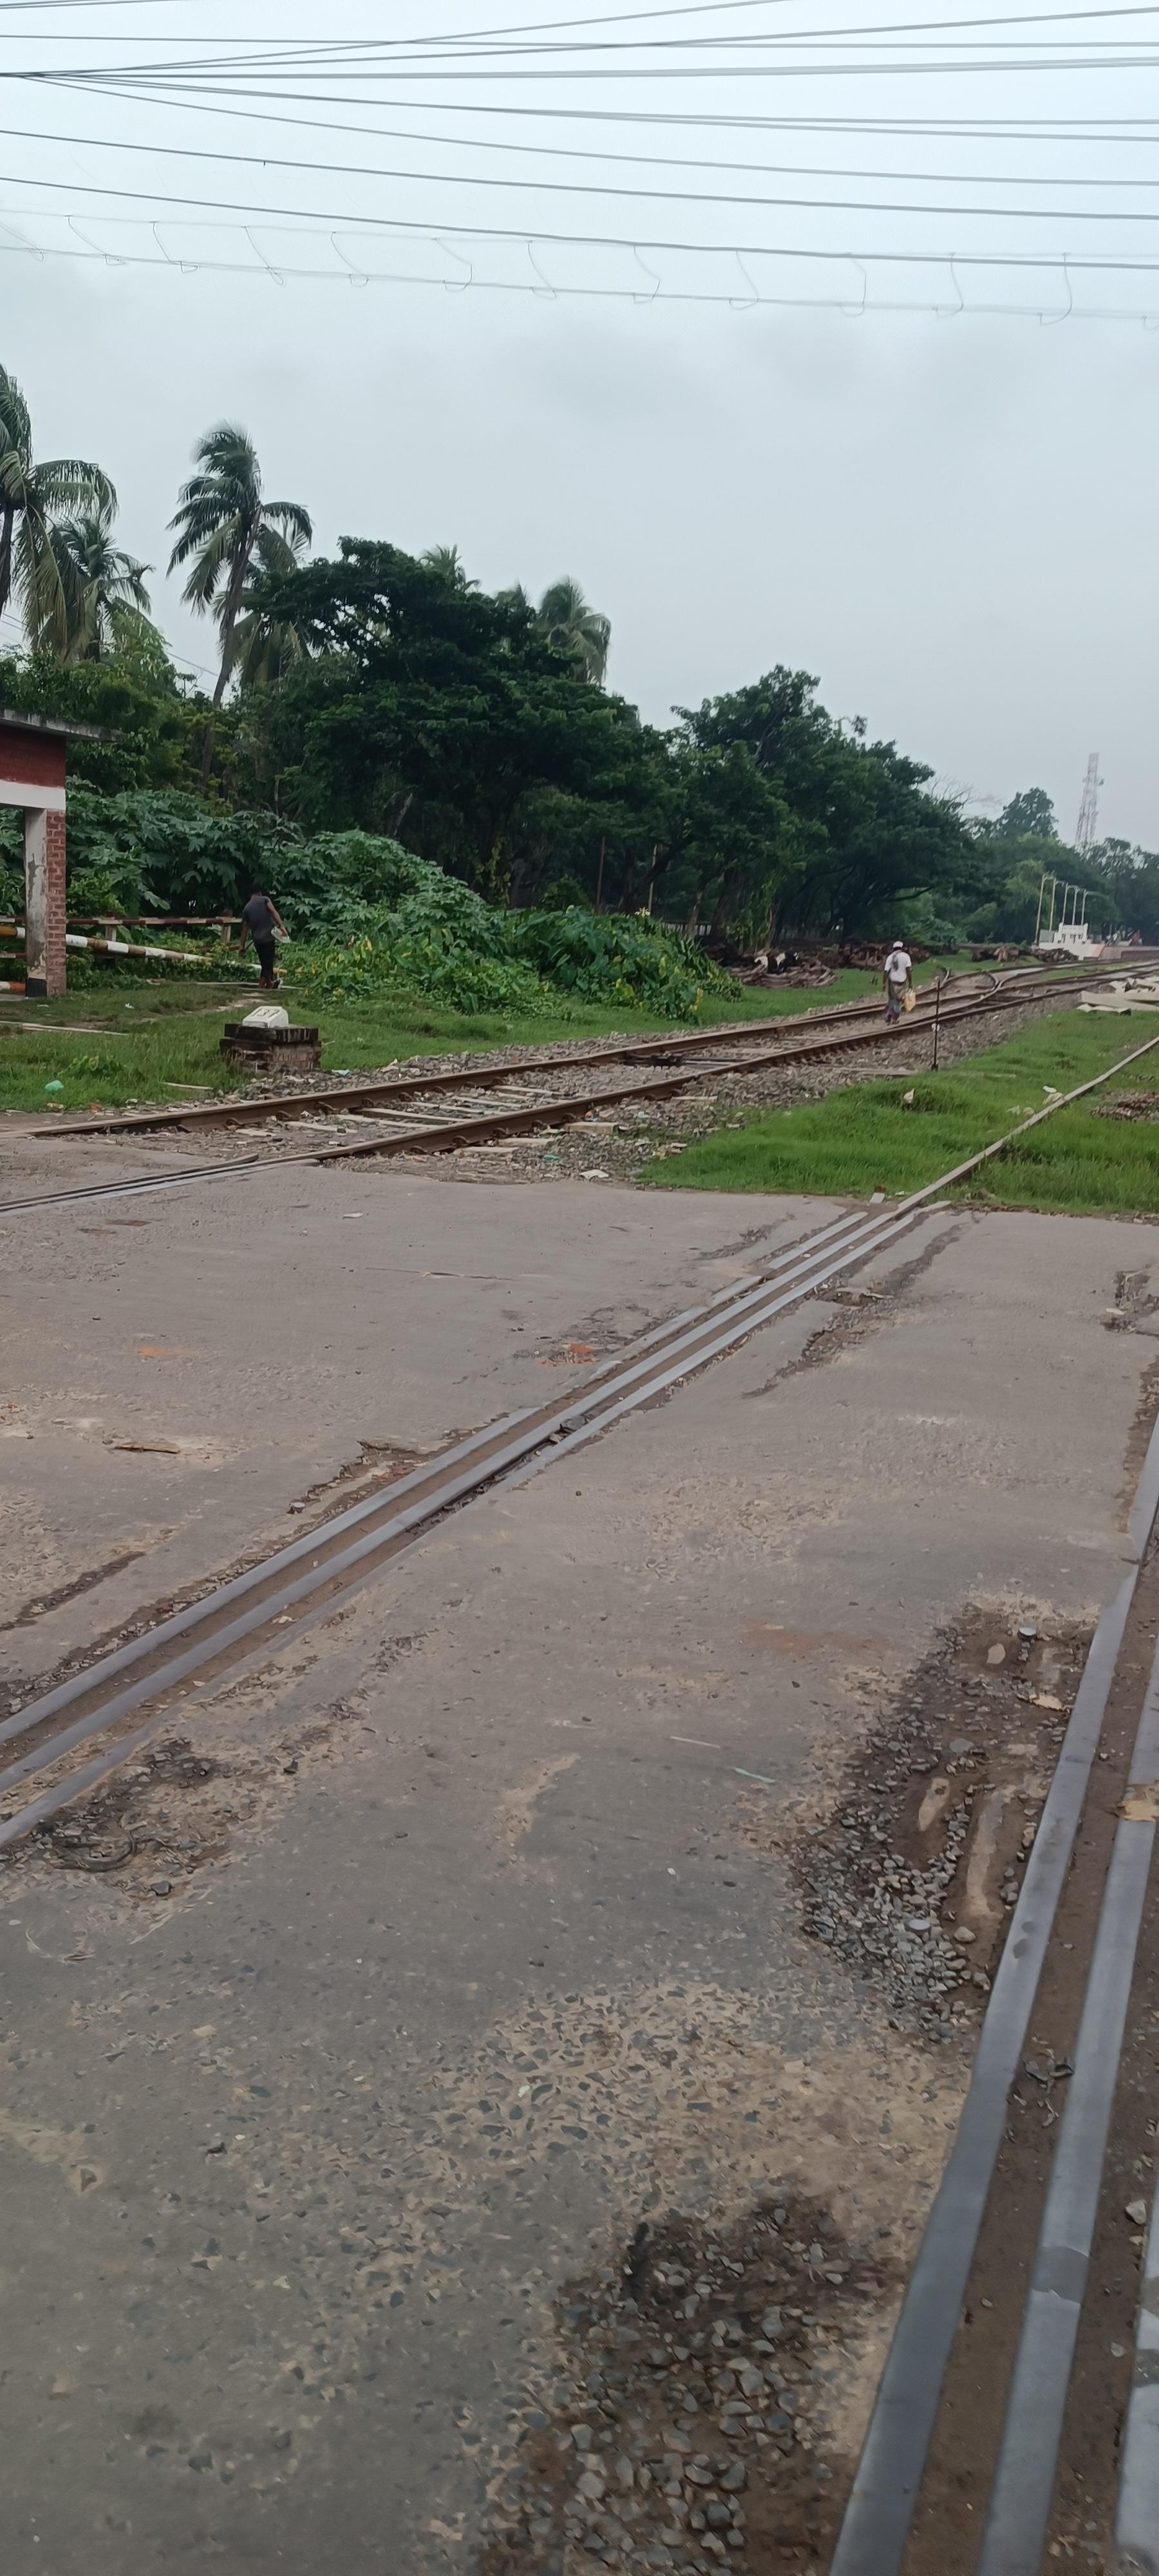Garbage-bin: (241, 884, 291, 987), (883, 940, 914, 1025)
Obstacle: (0, 1089, 1159, 2576)
